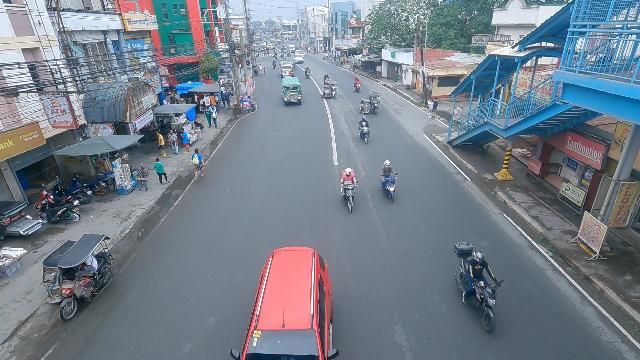car: (236, 246, 335, 360), (293, 55, 304, 64), (288, 45, 296, 54)
jeepney: (281, 77, 303, 106), (279, 61, 294, 78)
motorcycle: (451, 240, 505, 334), (340, 167, 360, 211), (380, 160, 398, 203), (357, 115, 373, 146), (353, 75, 362, 94), (304, 67, 312, 80), (323, 74, 330, 86), (295, 50, 304, 57), (272, 60, 277, 68), (281, 54, 284, 61), (274, 53, 277, 60)
